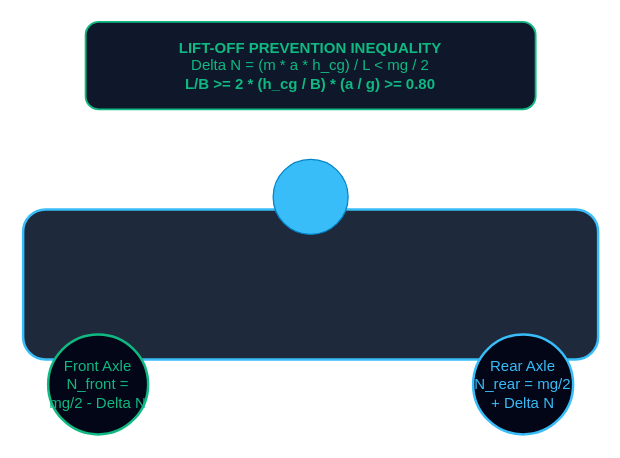
This 620x458 diagram has some shape labels left out. Each missing label, with the box of its shape:
CG h_cg = 200 mm: (272, 158, 348, 234)
CHASSIS PROFILE m = 65.0 kg Wheelbase L = 488.8 mm: (21, 208, 599, 360)
